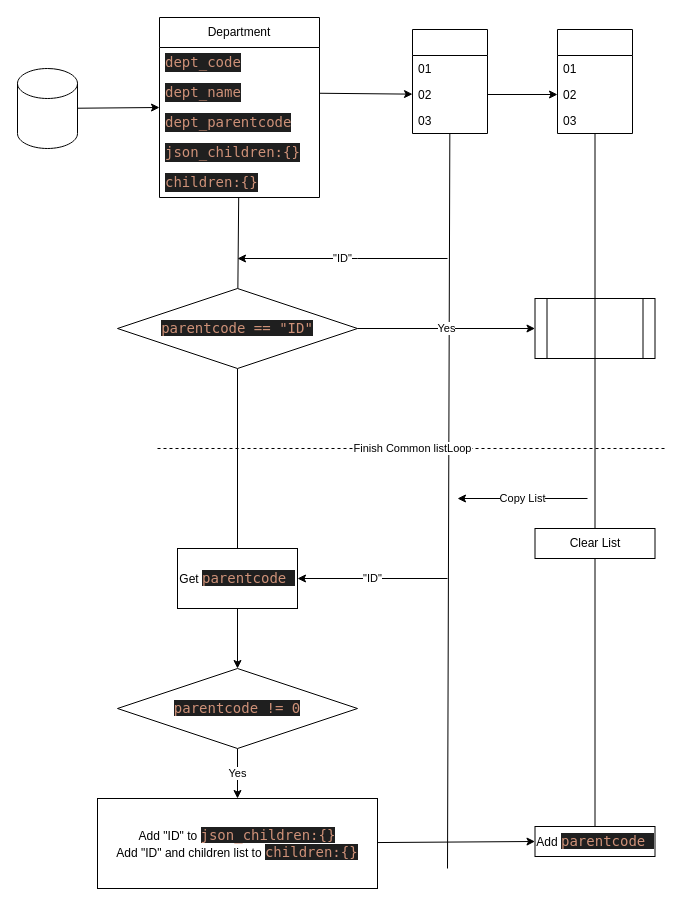
Some shapes in this 686 by 906 pixel diagram are drawn without their labels. The shapes that lost their labels are listed below. From the top down, each one's box as (x1, y1, x2, y2) in pixels, then its label:
(412, 28, 488, 134): Common dept_code
(556, 28, 632, 134): Current dept_code
(534, 298, 655, 358): remove from list
